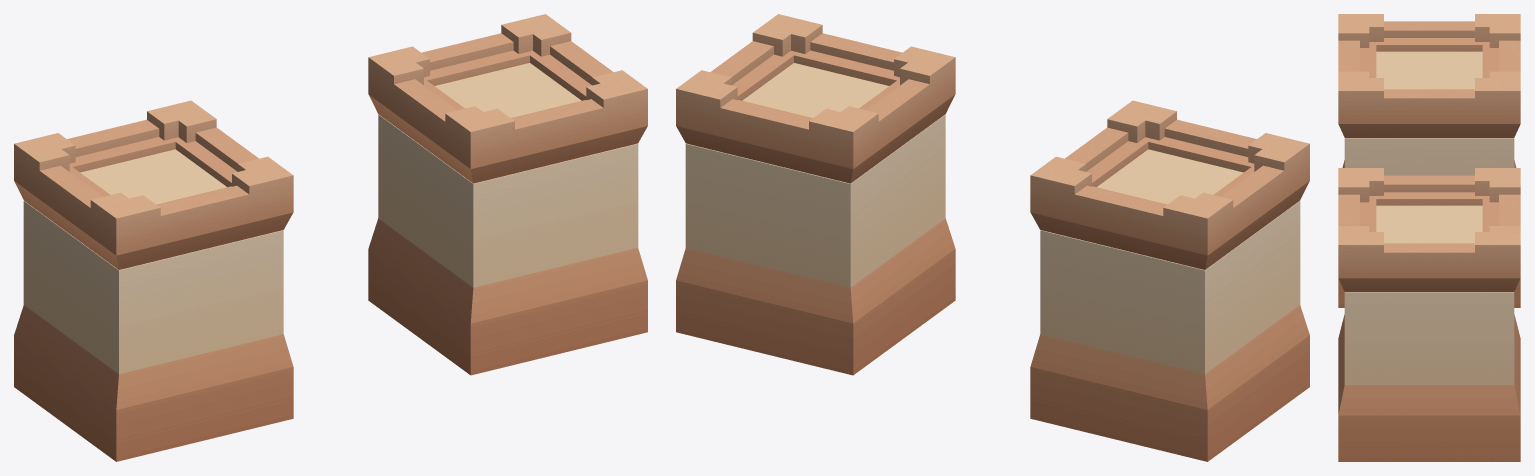
File: town_gate.glb
3 views of the same model, side by side, from view 1: azimuth 30°, elevation 25°; view 2: azimuth 150°, elevation 25°; view 3: azimuth 270°, elevation 25° (orthographic). The views are drawn at different scales.
Visible parts, largest first — view 1: town_gate; view 2: town_gate; view 3: town_gate.
Boxes of the visible parts, x1=… form: town_gate: x1=14, y1=14, x2=647, y2=461; town_gate: x1=676, y1=14, x2=1309, y2=461; town_gate: x1=1338, y1=14, x2=1520, y2=461.
Bounding box in the file's own units: 14.4 × 6.3 × 4.8.
Materials: 4 (4 with a texture image).
